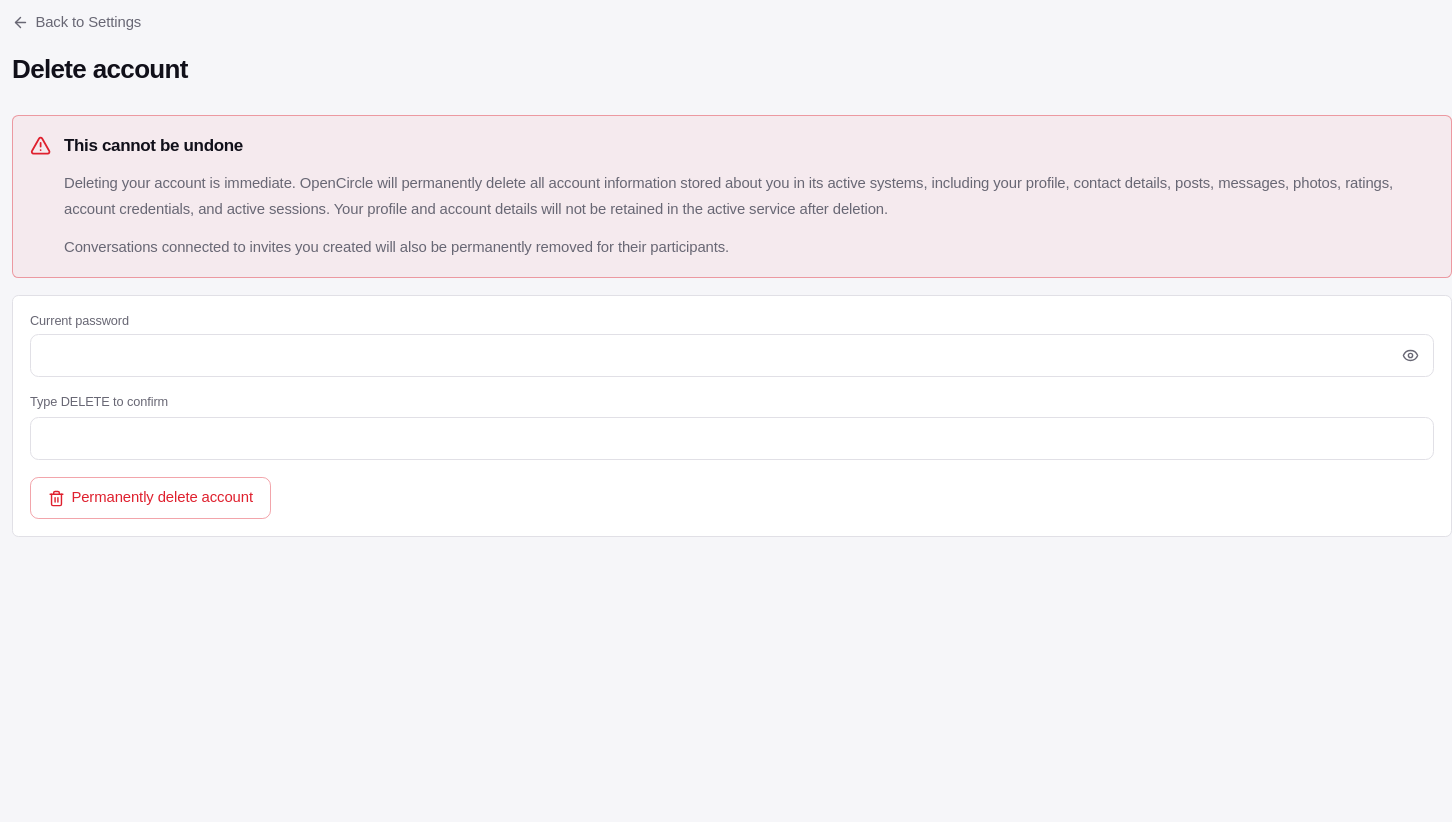
Scenario: DeleteAccountPage › keeps the account signed in when the server rejects deletion
Step 1. Type "WrongPassword!" into the password field labelled "Current password" → point(732, 356), box 30,334 -> 1434,377
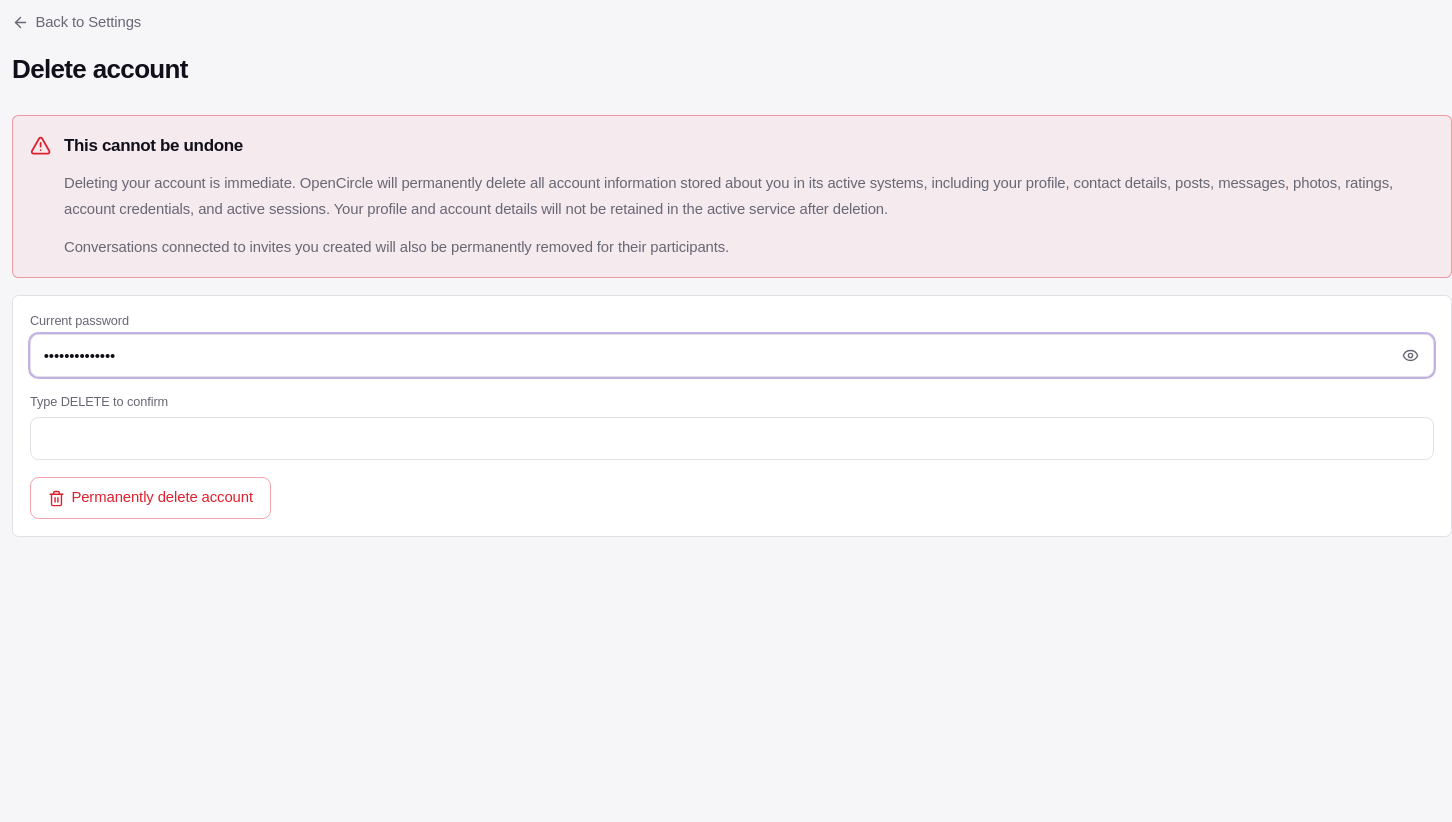
Step 2. Type "DELETE" into the field labelled "Type DELETE to confirm" → point(732, 439), box 30,417 -> 1434,460
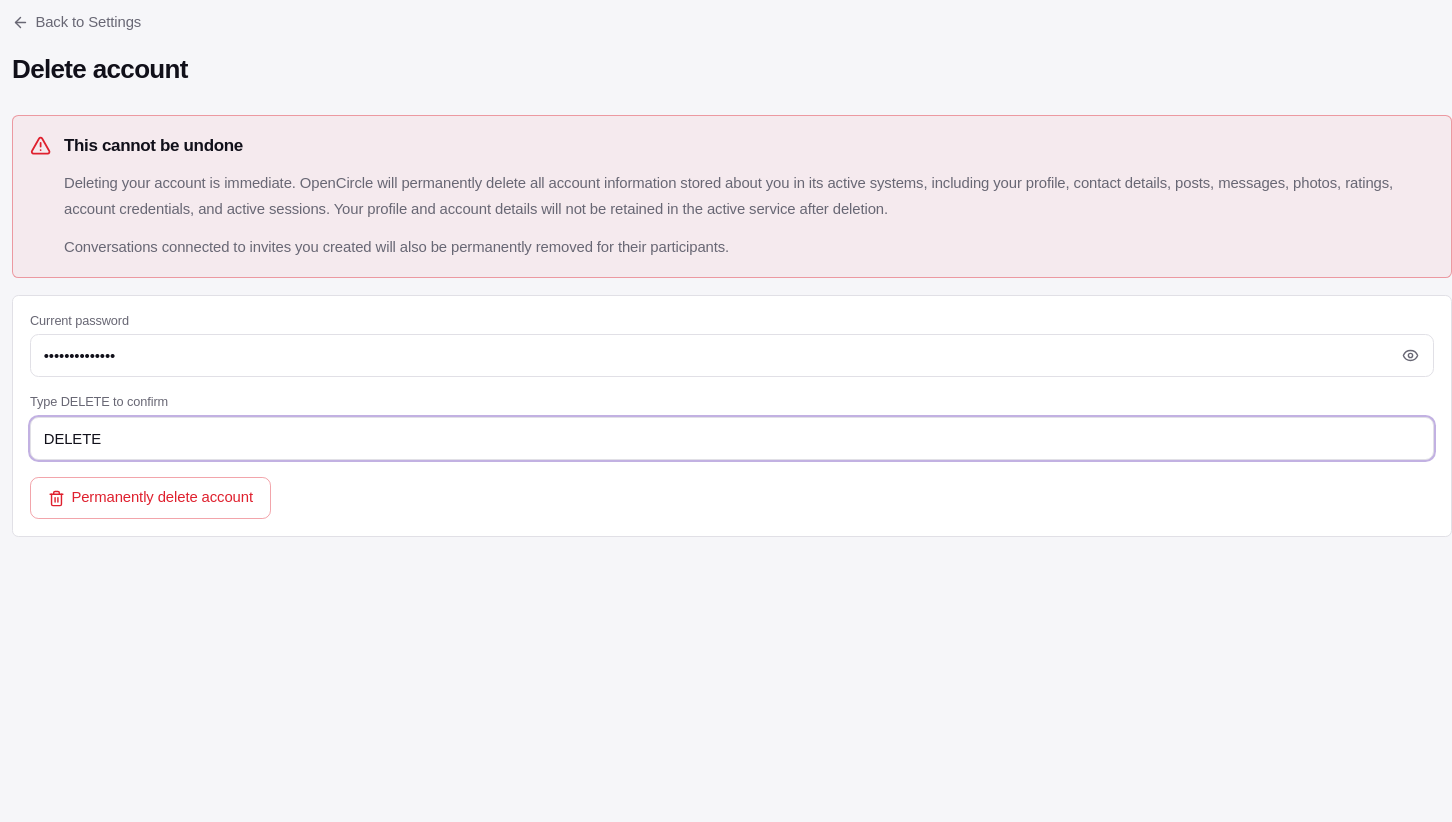
Step 3. Click the button "Permanently delete account" → point(150, 498), box 30,477 -> 271,519
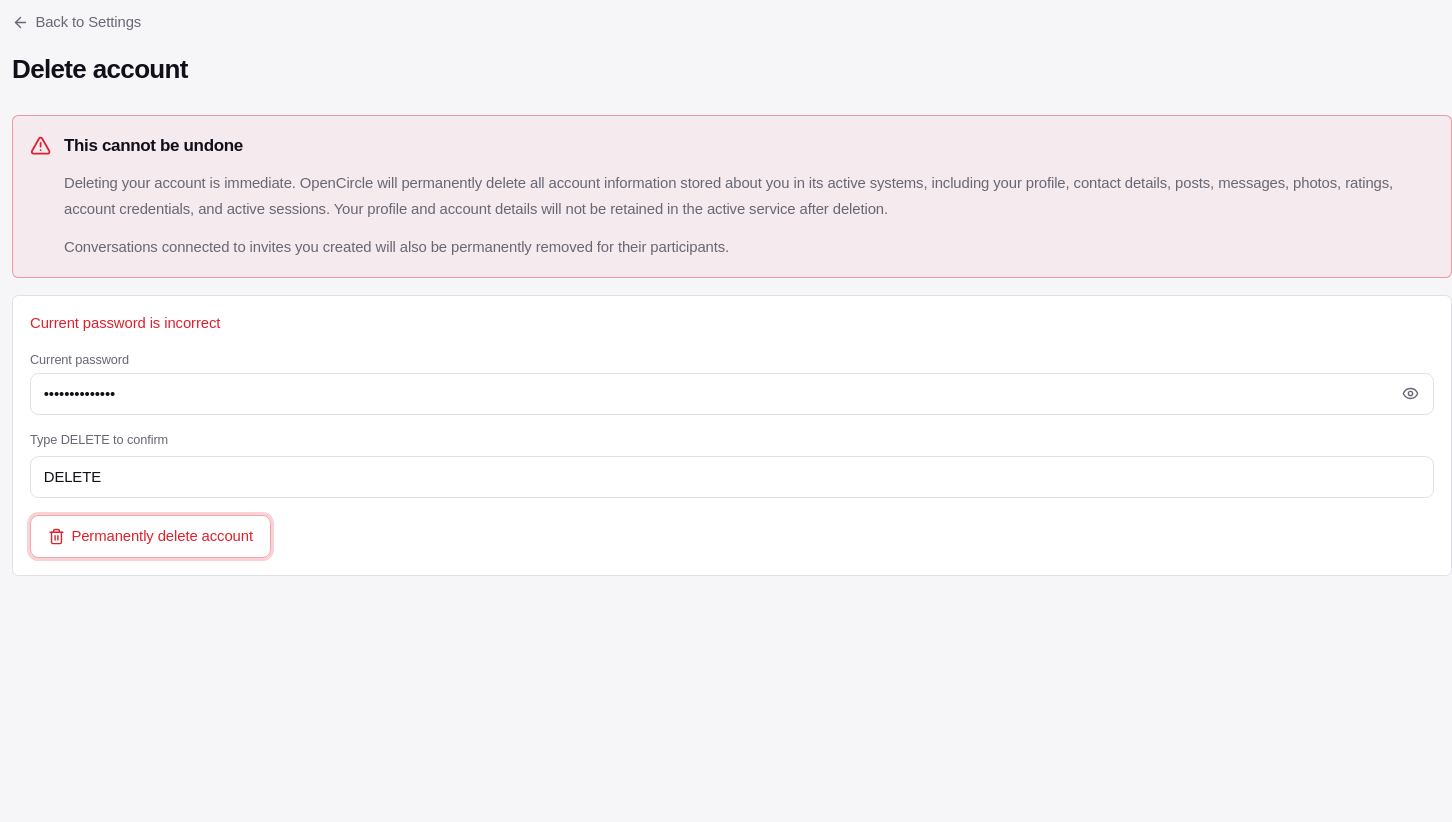
Result: the text "Current password is incorrect" is shown at 30,315 -> 220,331
